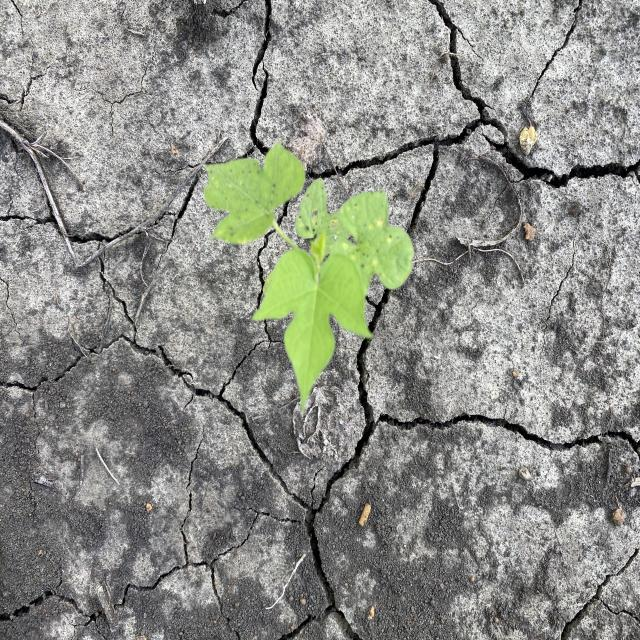MorningGlory: (201, 142, 416, 417)
